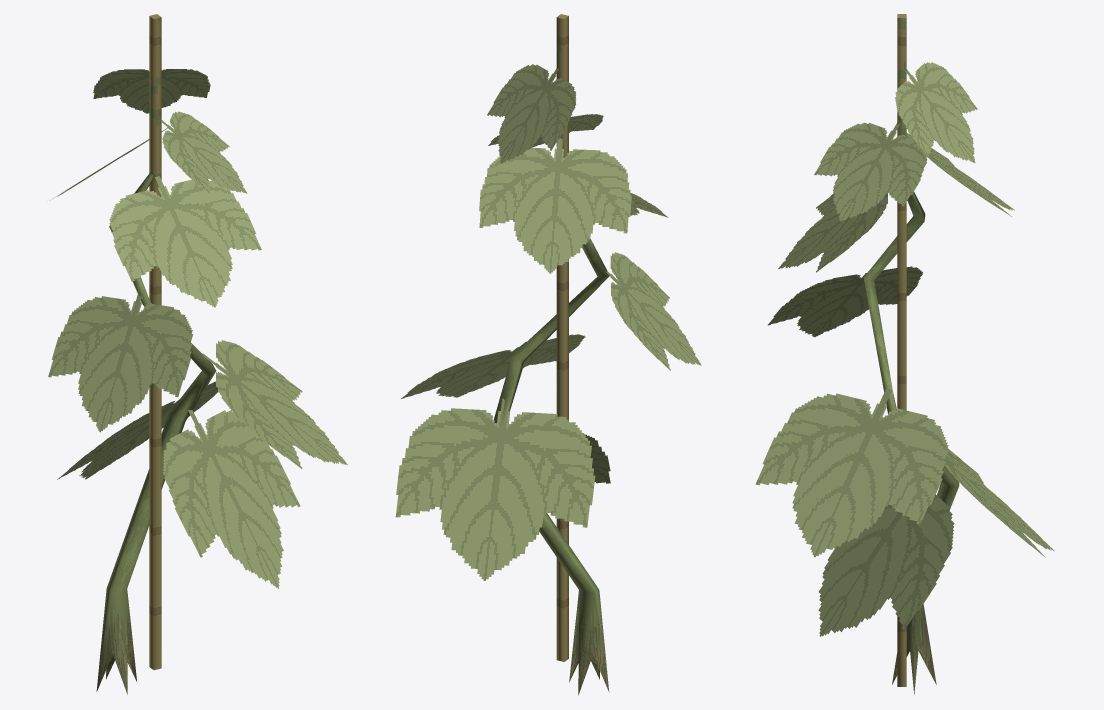
The model's file is 036a_Cucumber_Plant.glb.
The picture shows the model from 3 angles, left to right: view 1: azimuth 30°, elevation 25°; view 2: azimuth 150°, elevation 25°; view 3: azimuth 270°, elevation 25°; orthographic projection. The views are drawn at different scales.
Parts seen in each view (by area): view 1: part_0; view 2: part_0; view 3: part_0.
Part boxes in pixels (bbox=[...]): part_0: bbox=[48, 14, 347, 694]; part_0: bbox=[395, 14, 701, 695]; part_0: bbox=[755, 14, 1054, 694].
Size of the model in its own units: 0.3268 by 0.6473 by 0.3073.
1 material, 1 textured.
